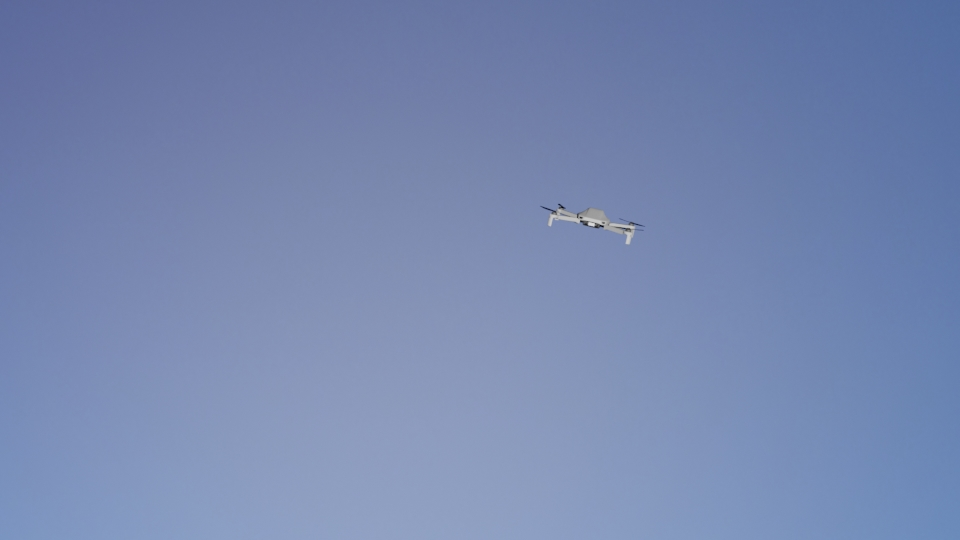drone: (543, 203, 644, 245)
